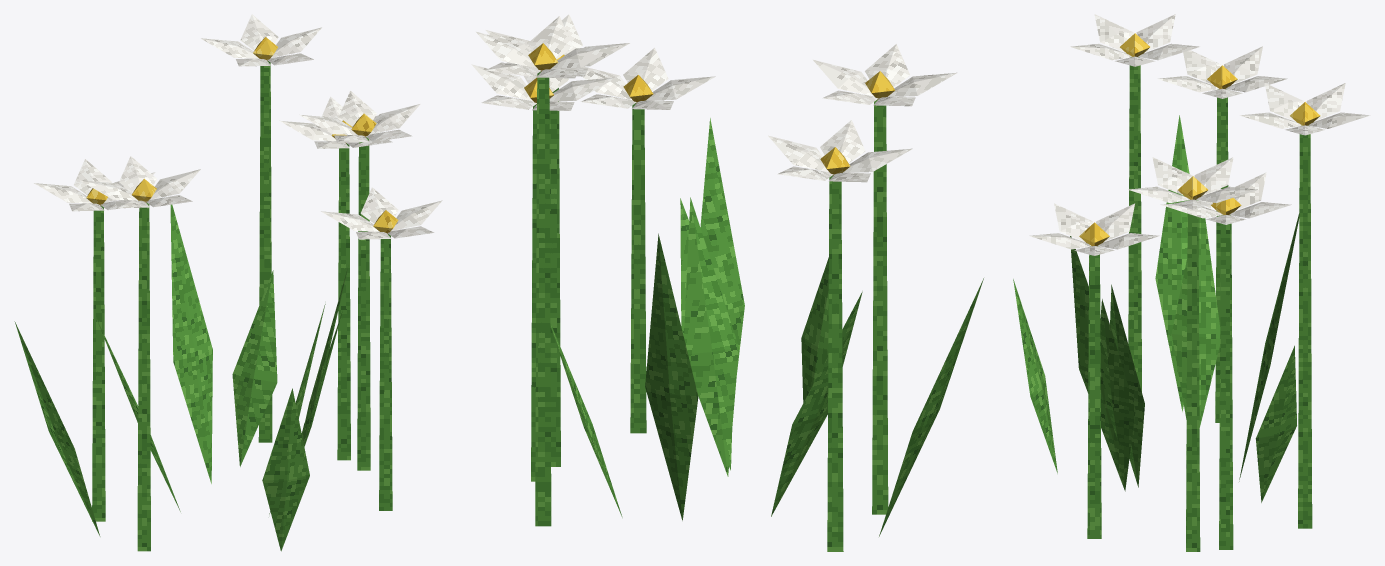
Rendered from flowers_white.glb.
3 renders of one model, left to right at view 1: azimuth 30°, elevation 25°; view 2: azimuth 150°, elevation 25°; view 3: azimuth 270°, elevation 25°, orthographic. The views are drawn at different scales.
Visible parts, largest first — view 1: Body.028; view 2: Body.028; view 3: Body.028.
Boxes of the visible parts, x1,y1,x2,y2 form: Body.028: [14, 14, 442, 551]; Body.028: [471, 14, 983, 551]; Body.028: [1013, 14, 1370, 551].
Size of the model in its own units: 0.4866 by 0.455 by 0.3469.
3 materials, 3 textured.
